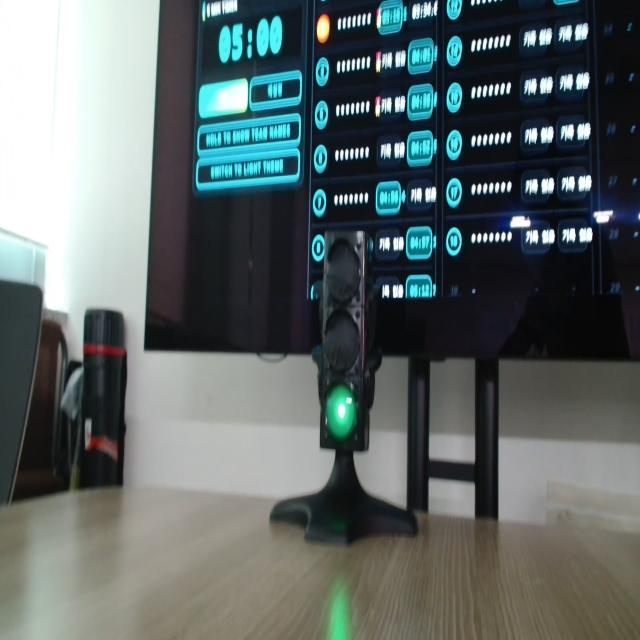green_light: (326, 384, 356, 440)
